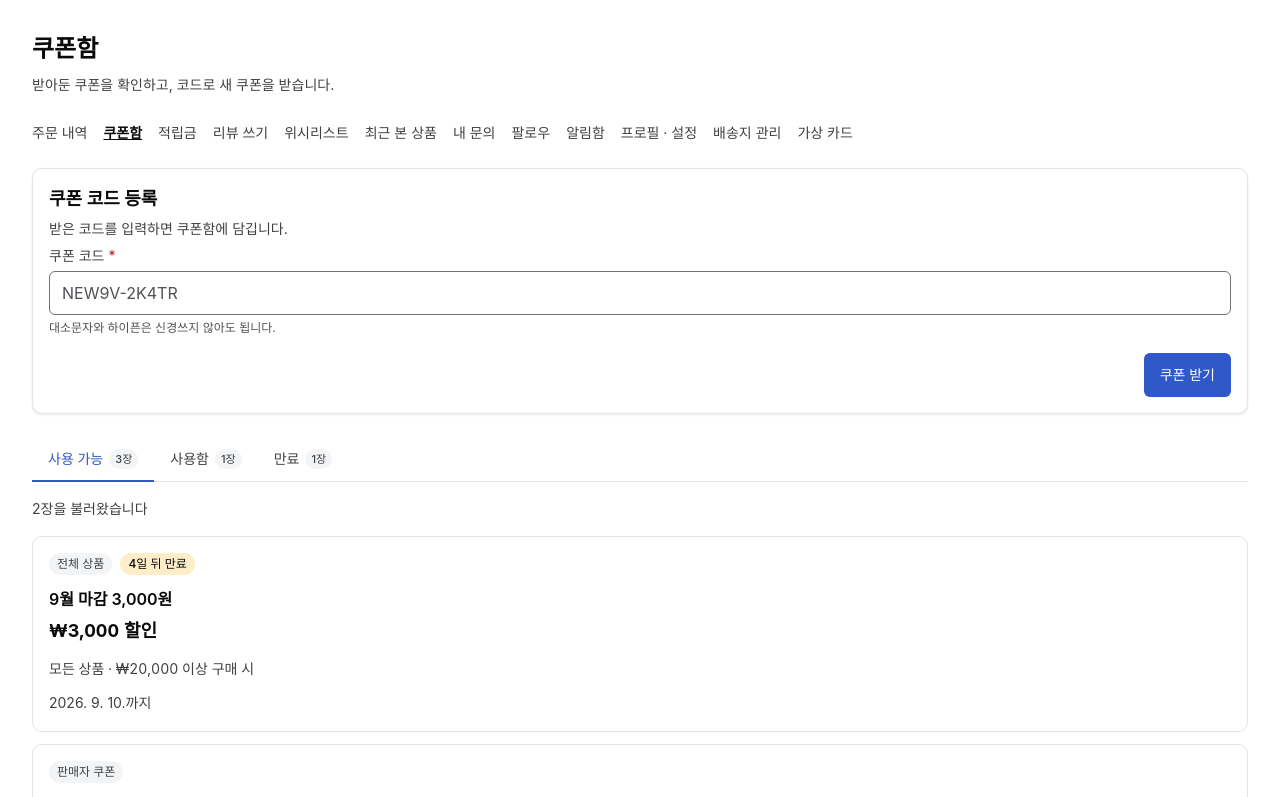
Test case: 탭 셋 (F1) › separates the expired ones into their own tab
Expected: the heading "쿠폰함" is shown, x1=32 y1=34 x2=98 y2=63
Click the tab "만료 1장" at (303, 460), box x1=258 y1=438 x2=348 y2=482
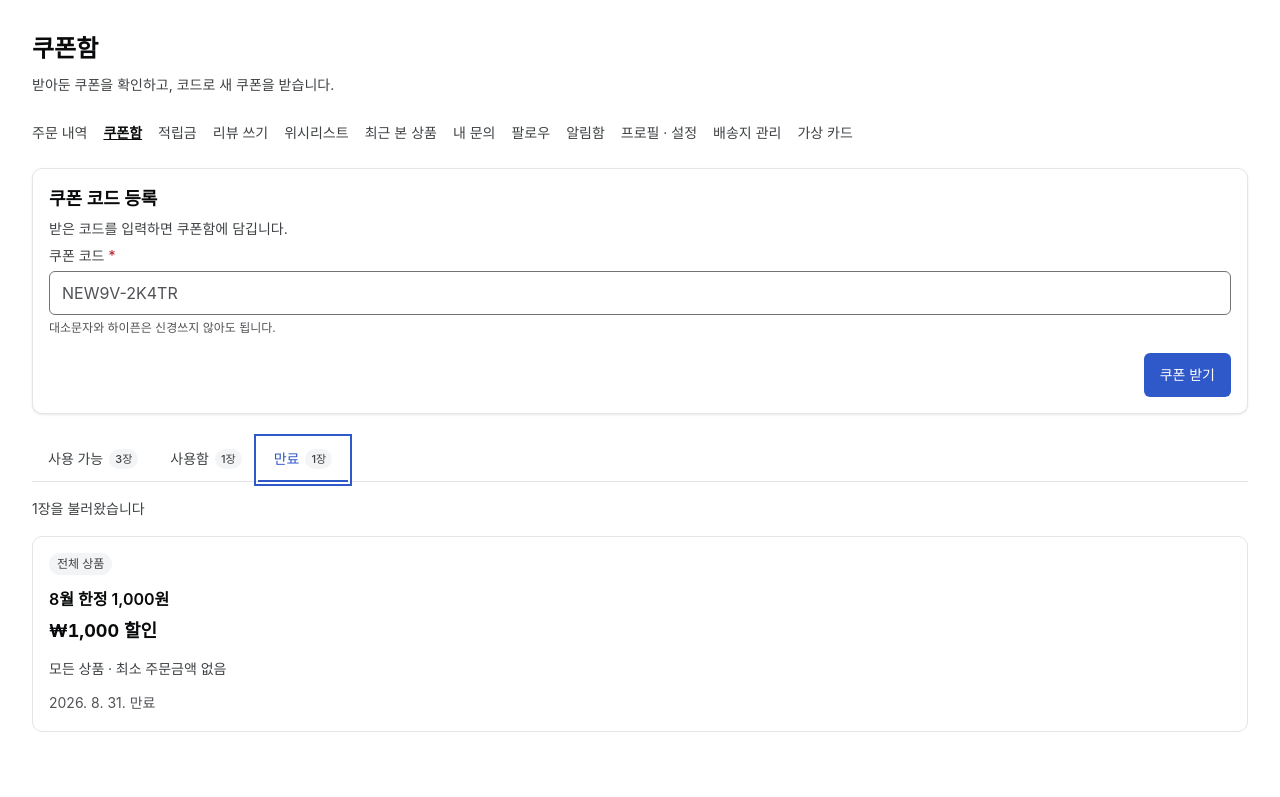
Expected: the heading "8월 한정 1,000원" is shown, x1=49 y1=589 x2=169 y2=609
